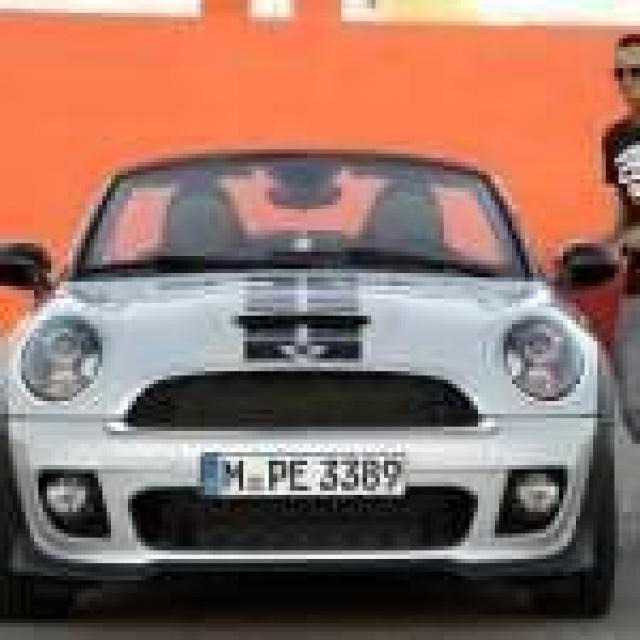car: (0, 149, 619, 622)
